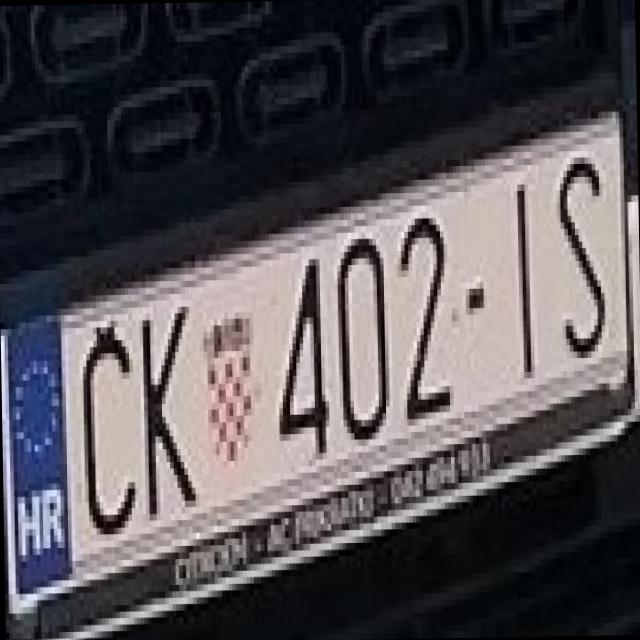0: (322, 218, 389, 440)
1: (498, 170, 538, 366)
2: (386, 198, 454, 420)
4: (265, 232, 333, 453)
C: (67, 307, 139, 528)
K: (128, 286, 200, 514)
S: (537, 137, 609, 358)
